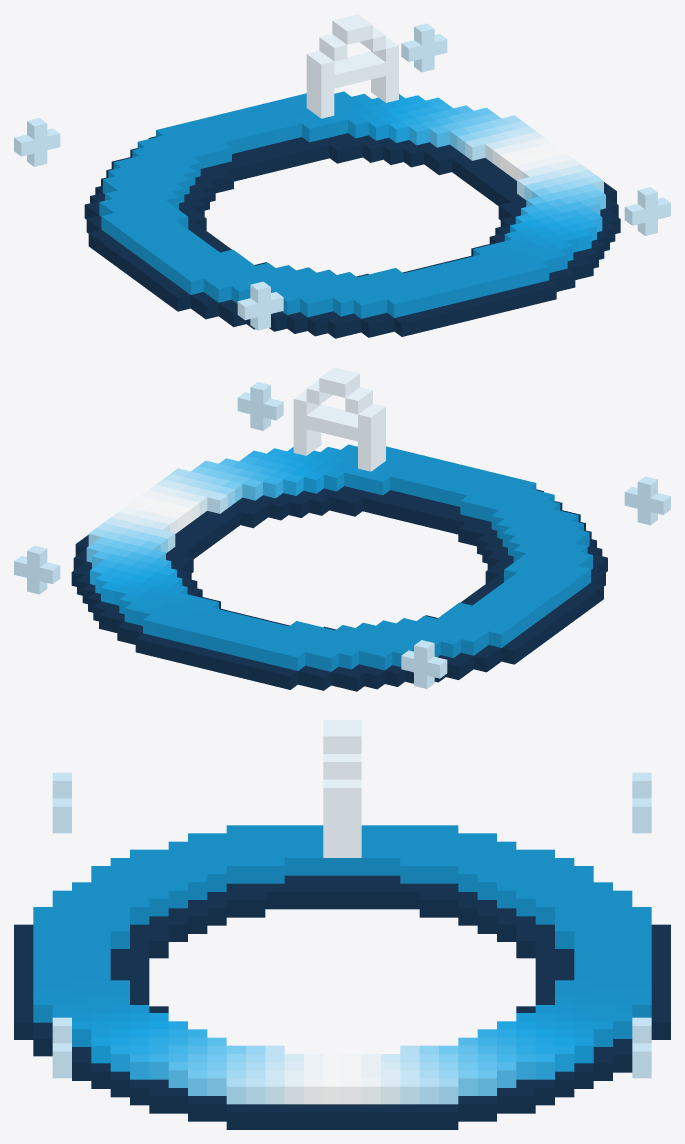
Rendered from admin_halo_hat.glb.
3 renders of one model, top to bottom at view 1: azimuth 30°, elevation 25°; view 2: azimuth 150°, elevation 25°; view 3: azimuth 270°, elevation 25°, orthographic. The views are drawn at different scales.
Parts seen in each view (by area): view 1: Admin Halo; view 2: Admin Halo; view 3: Admin Halo.
Part boxes in pixels (x1,y1,x2,y2): Admin Halo: [14, 14, 670, 338]; Admin Halo: [14, 367, 670, 691]; Admin Halo: [14, 720, 670, 1129].
Bounding box in the file's own units: 0.5312 × 0.2344 × 0.5312.
1 material, 1 textured.
